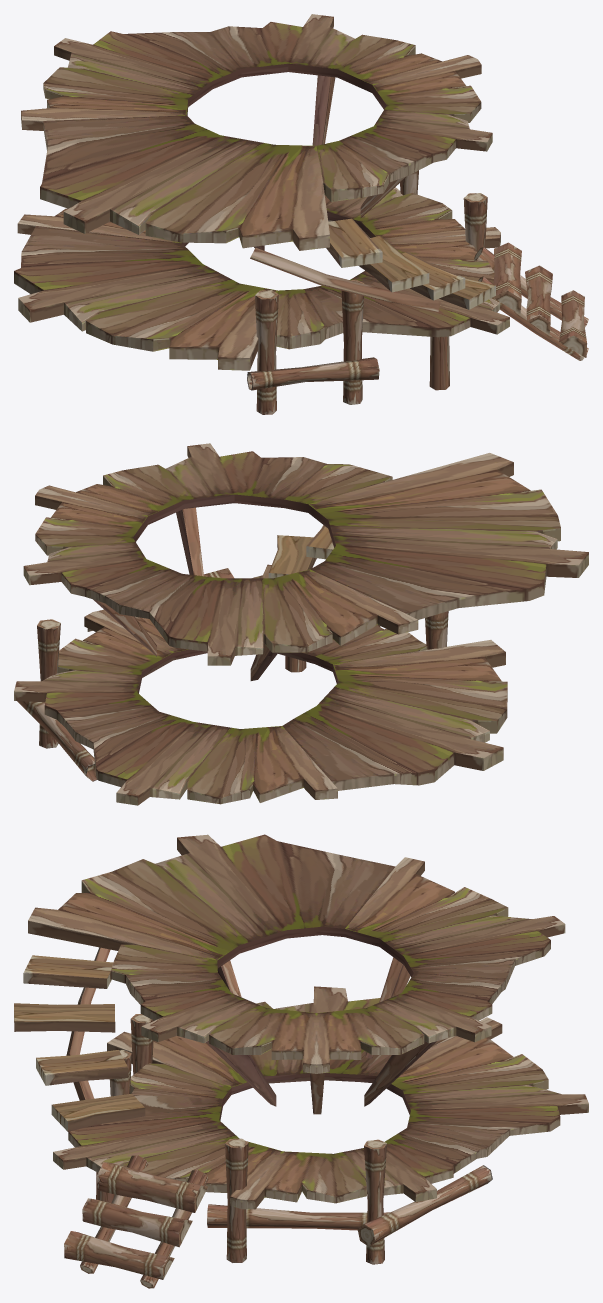
The model's file is Map_04_house03.FBX.
3 renders of one model, top to bottom at view 1: azimuth 30°, elevation 25°; view 2: azimuth 150°, elevation 25°; view 3: azimuth 270°, elevation 25°, orthographic. The views are drawn at different scales.
Parts seen in each view (by area): view 1: Map_04_house03; view 2: Map_04_house03; view 3: Map_04_house03.
Part boxes in pixels (x1=…): Map_04_house03: x1=14, y1=14, x2=588, y2=414; Map_04_house03: x1=14, y1=443, x2=588, y2=805; Map_04_house03: x1=14, y1=834, x2=588, y2=1288.
Bounding box in the file's own units: 87.9 × 37.46 × 87.88.
Materials: 1 (1 with a texture image).
